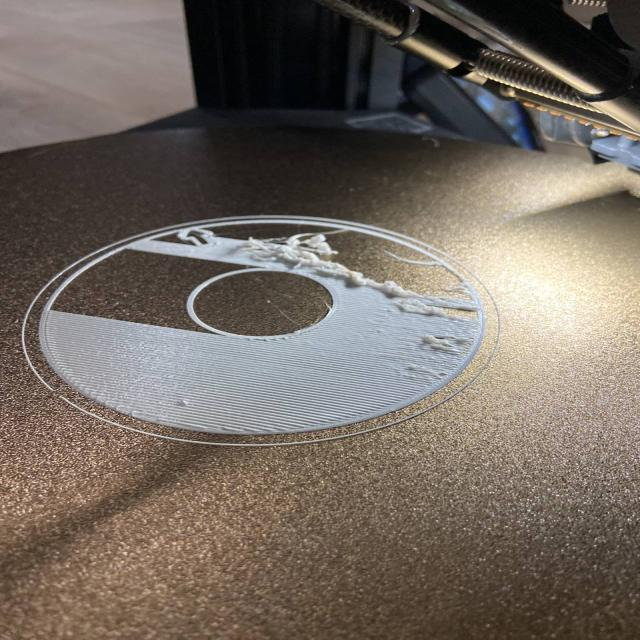blobs: (244, 228, 332, 274), (327, 263, 409, 292), (398, 298, 438, 320), (424, 332, 463, 353), (180, 398, 188, 406)
